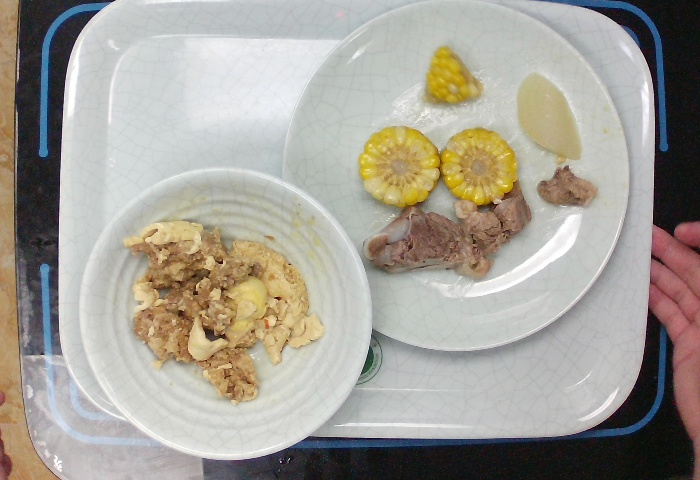JYsf-Da_Yuan_Pan: (278, 1, 637, 357)
JYsf-Xiao_Tang_Wan: (79, 158, 385, 463)
